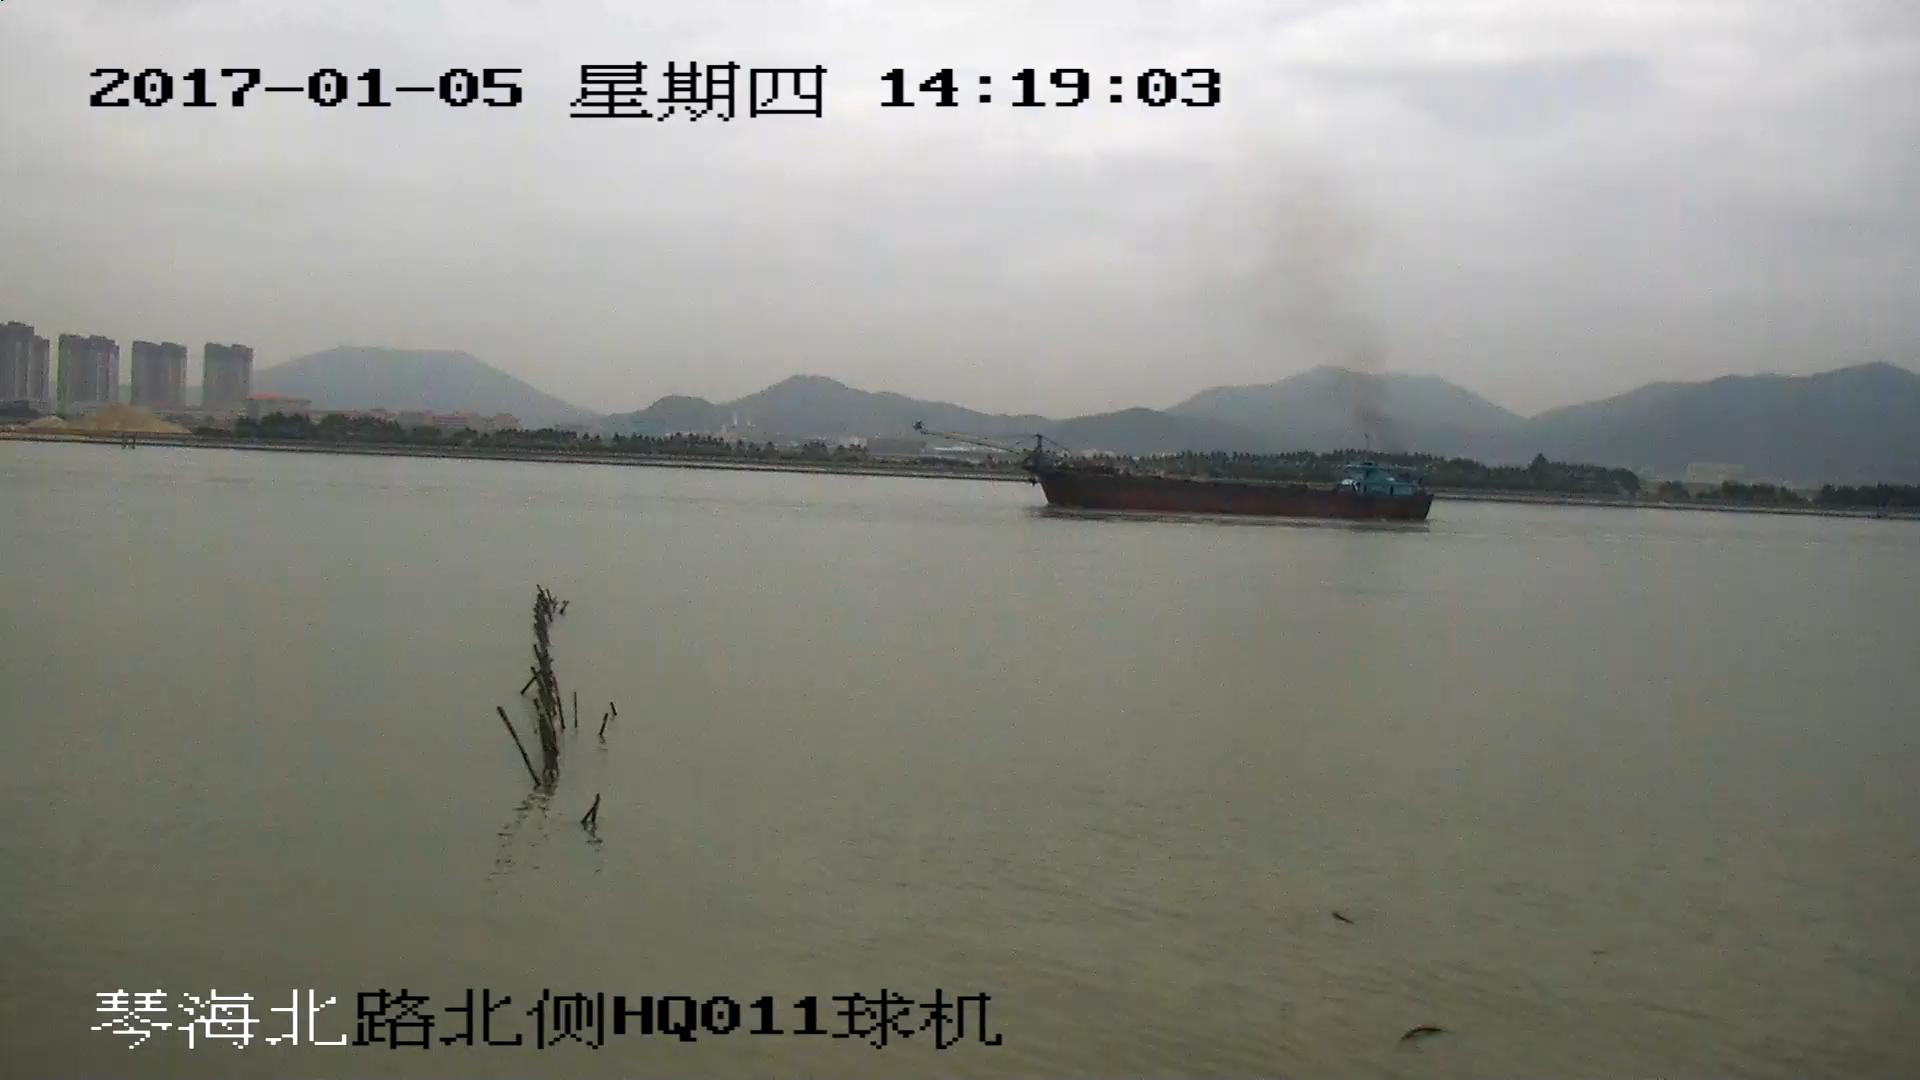bulk cargo carrier: (915, 429, 1435, 524)
